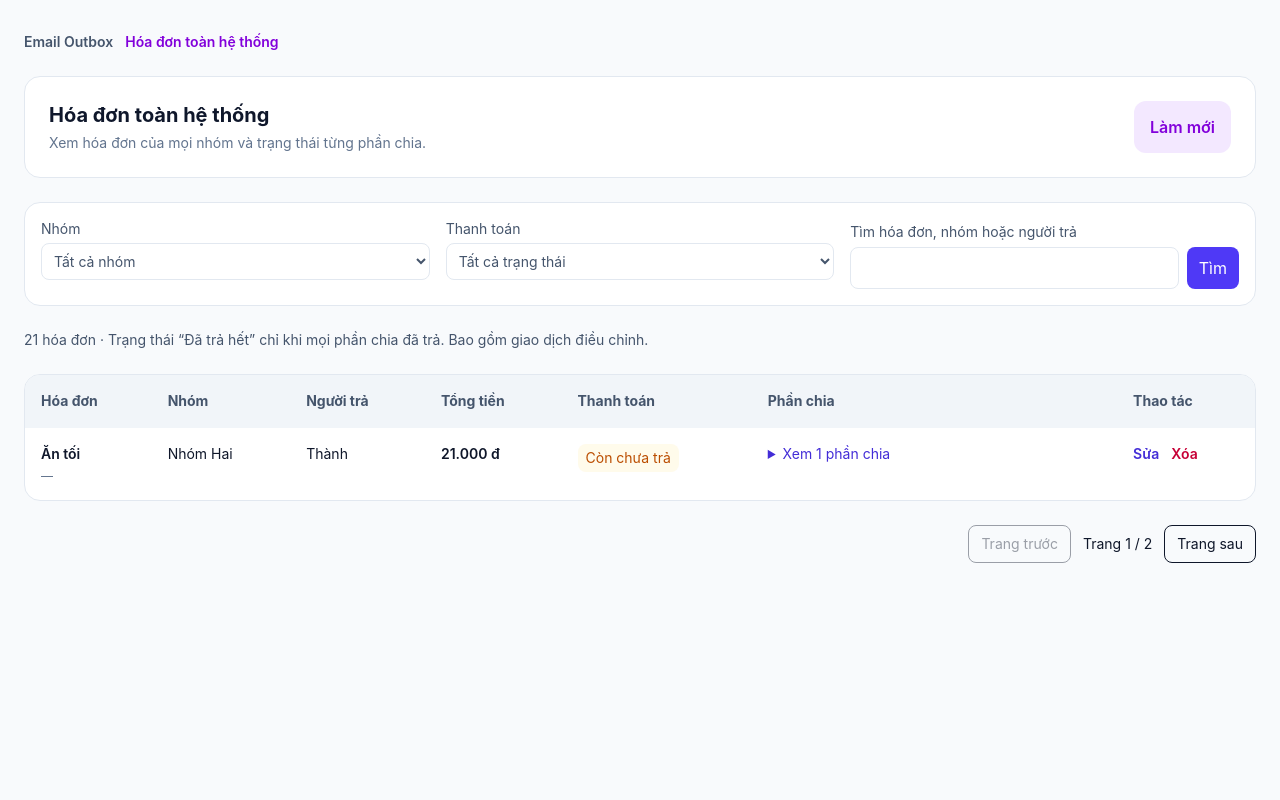
Test: admin edits per-share status and refreshes after saving
The image size is (1280, 800).
Expected: the text "Ăn tối" is shown, top-left (41, 445), bottom-right (80, 462)
Click the button "Sửa" at (1146, 454), box top-left (1133, 444), bottom-right (1159, 464)
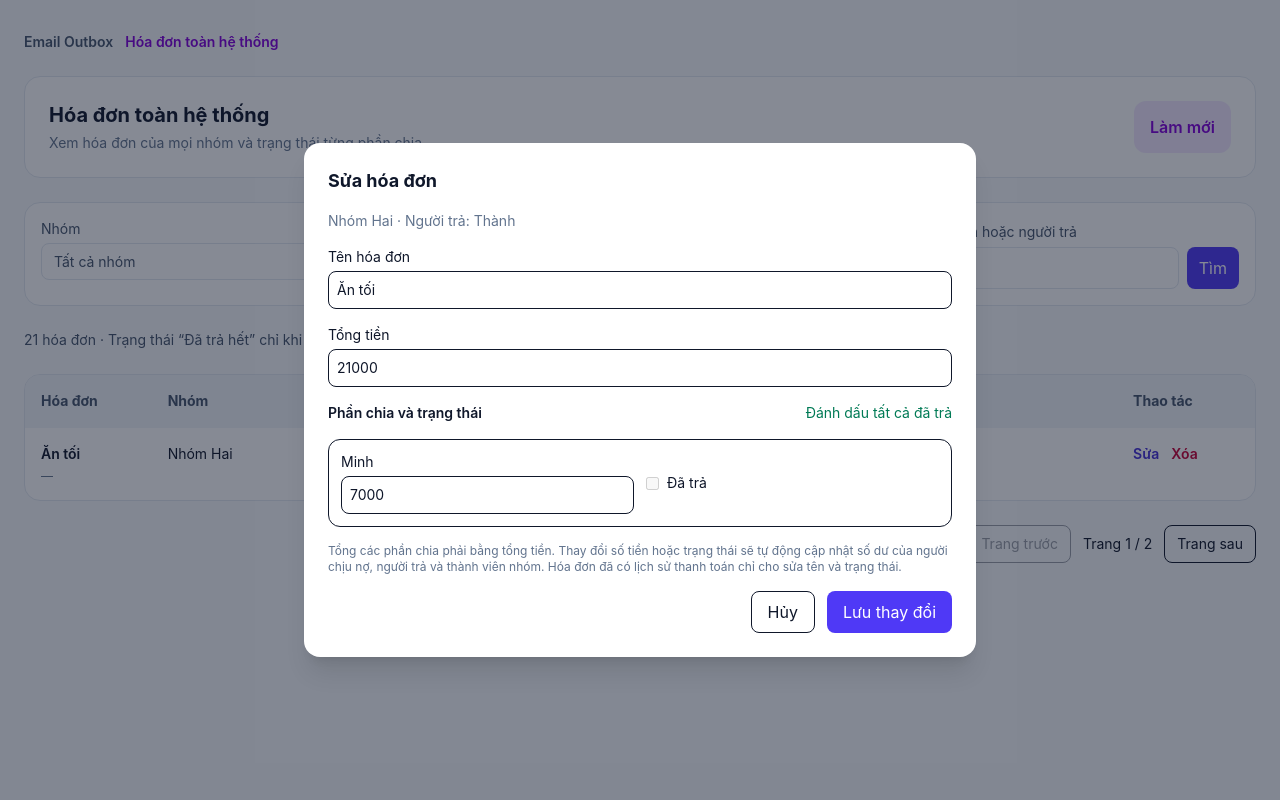
Click the checkbox named "Đã trả: Minh" at (652, 483), box top-left (646, 476), bottom-right (659, 490)
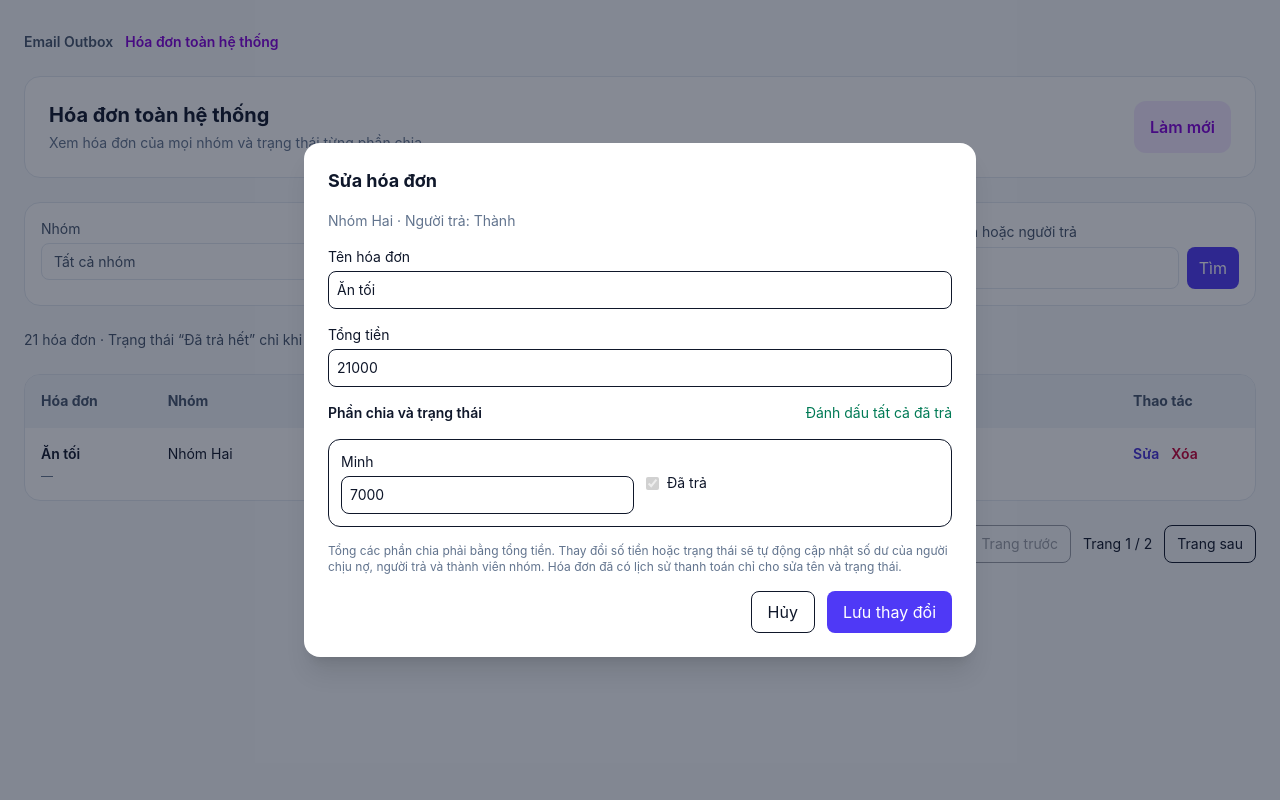
Replace the text in the field labelled "Tên hóa đơn" with "Ăn tối đã sửa" at (640, 290), box top-left (328, 271), bottom-right (952, 309)
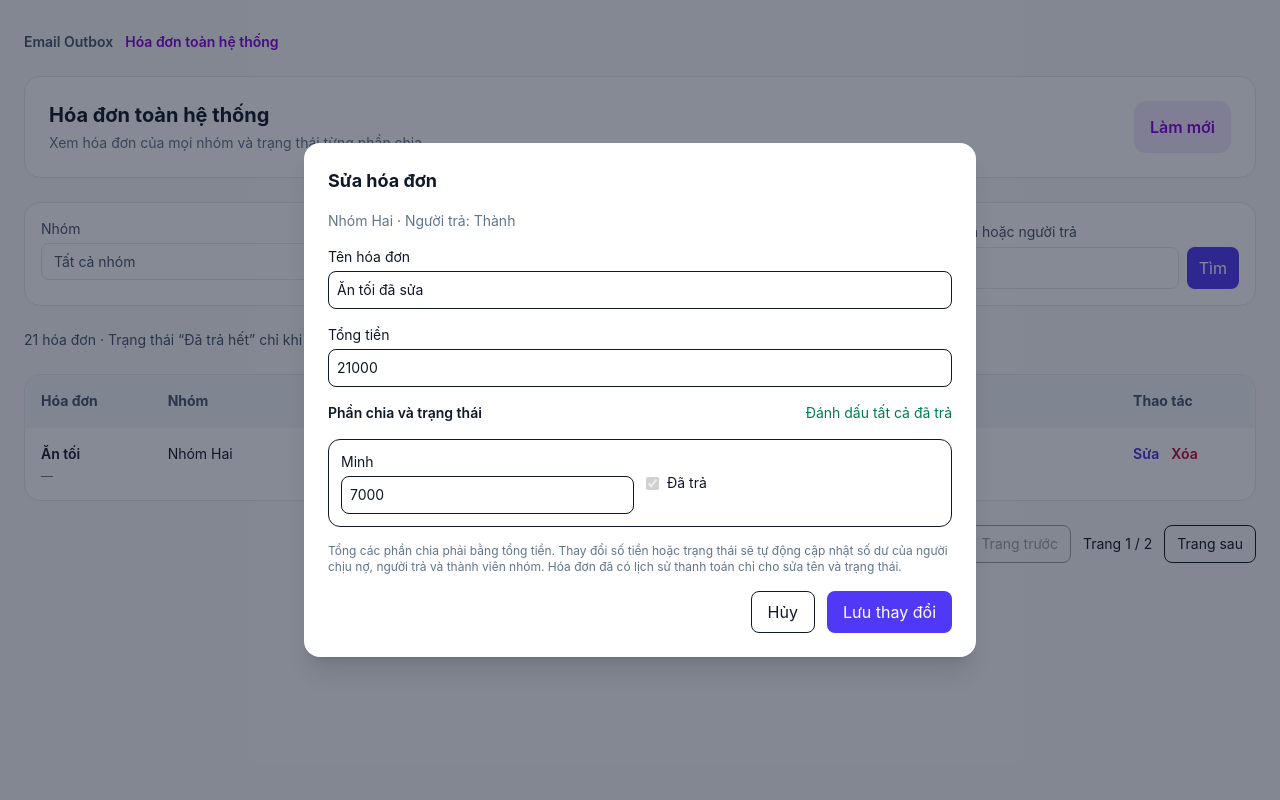
Click the button "Lưu thay đổi" at (889, 612), box top-left (827, 591), bottom-right (952, 633)
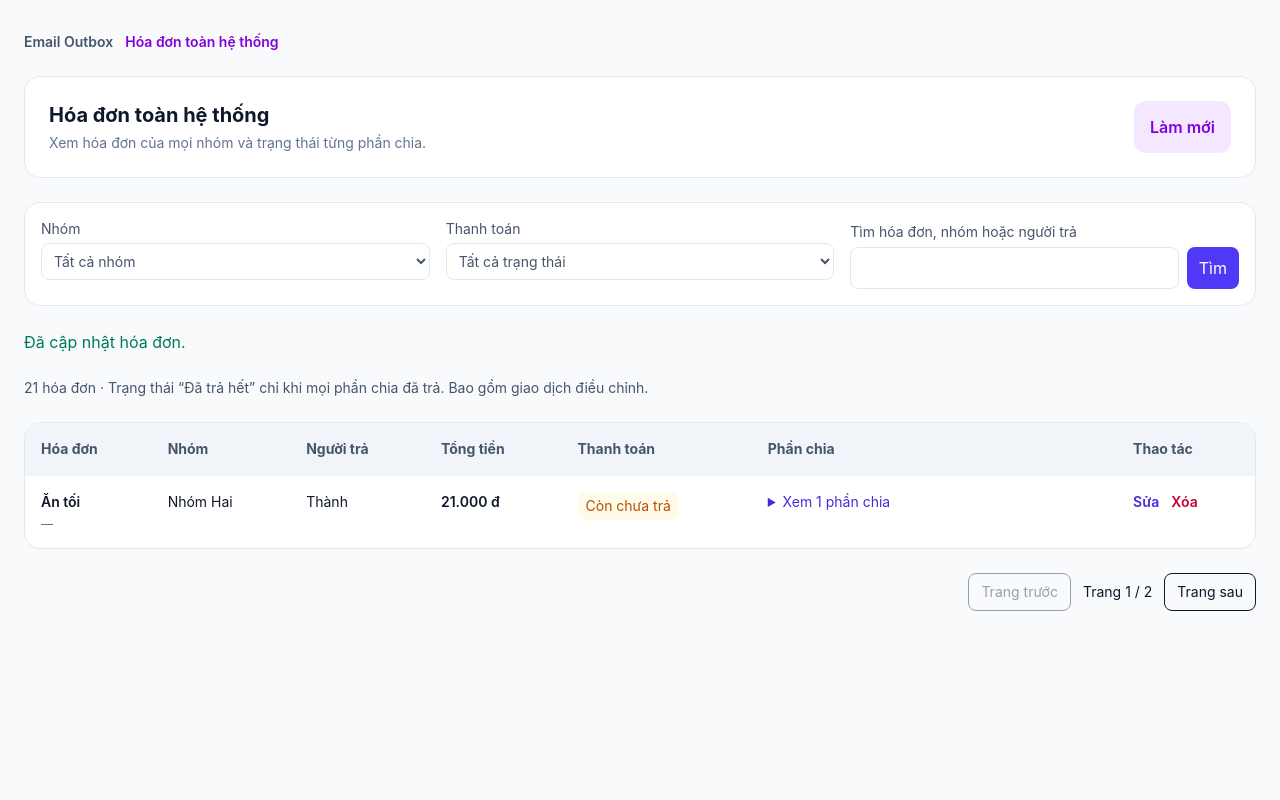
Now the text "Đã cập nhật hóa đơn." is shown, box top-left (24, 332), bottom-right (186, 352)
